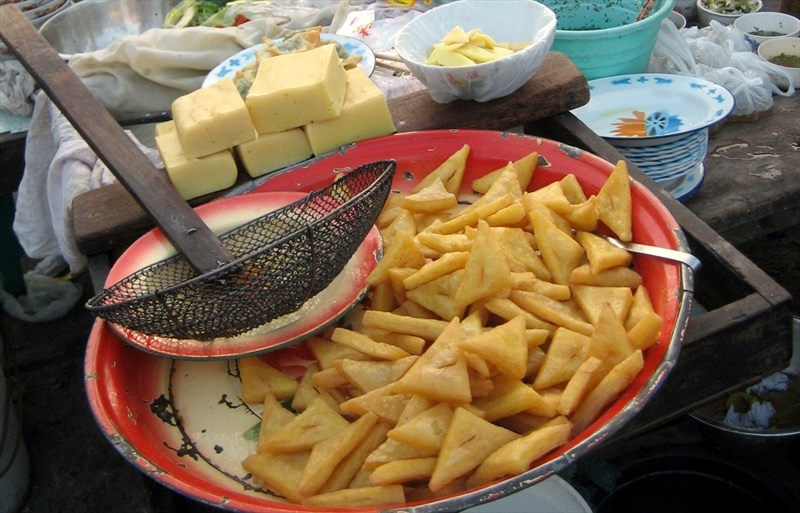Tahu Goreng: (117, 16, 703, 445)
